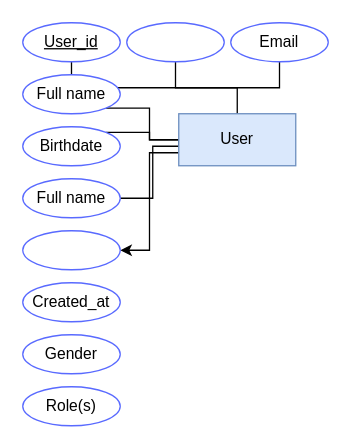
Some shapes in this 351 by 448 pixel diagram are drawn without their labels. The box of each missing label's shape, as (x1, y1, x2, y2) in pixels:
Phone number: (21, 229, 120, 270)
Username: (125, 21, 224, 62)
